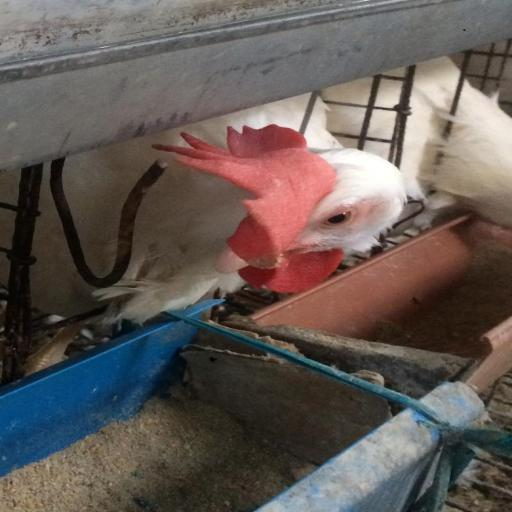healthy: (227, 143, 416, 278)
